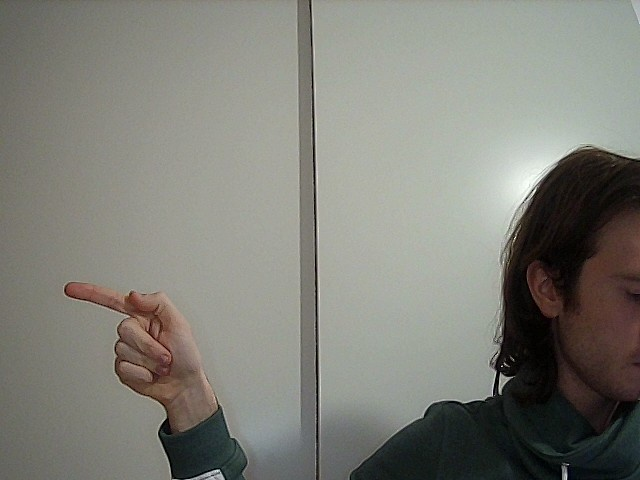g: (53, 262, 226, 421)
